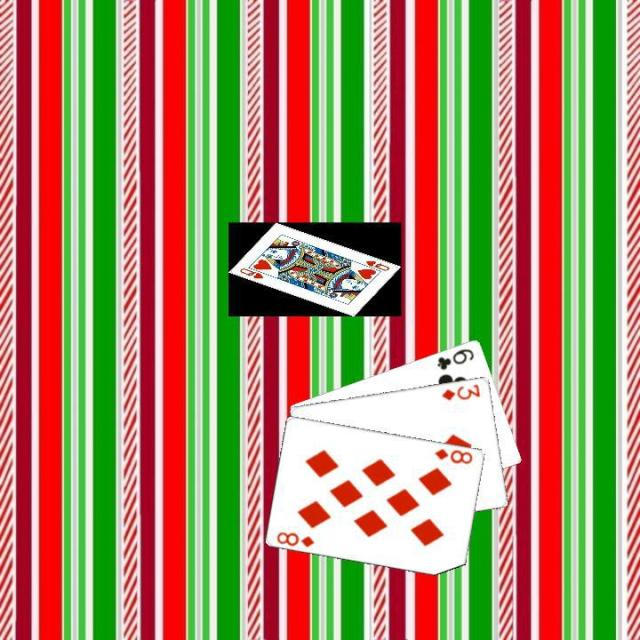3D: (438, 379, 482, 402)
6C: (433, 345, 475, 371)
8D: (431, 444, 475, 466), (273, 528, 316, 548)
